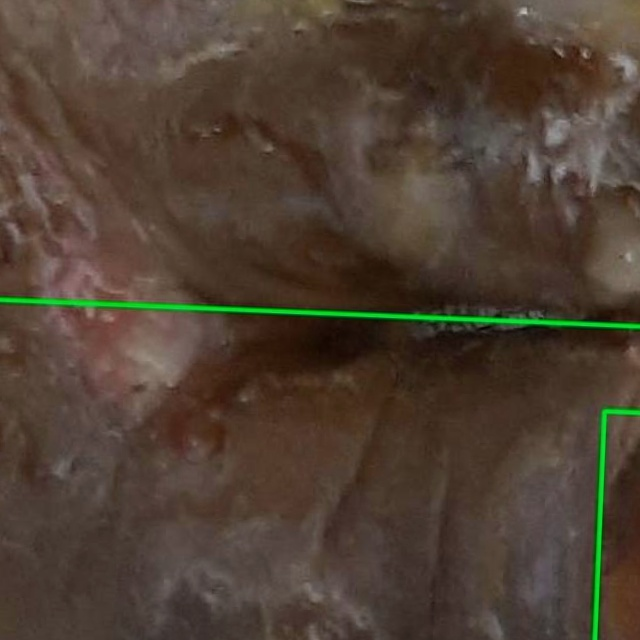Eczema: (0, 0, 639, 326)
